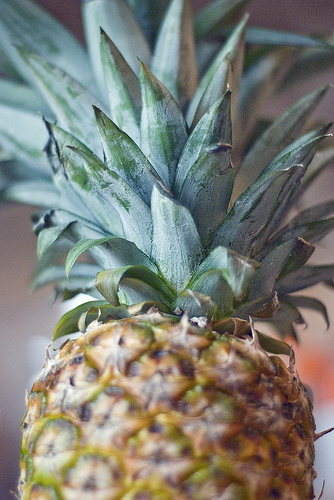pineapple: (1, 0, 332, 498)
